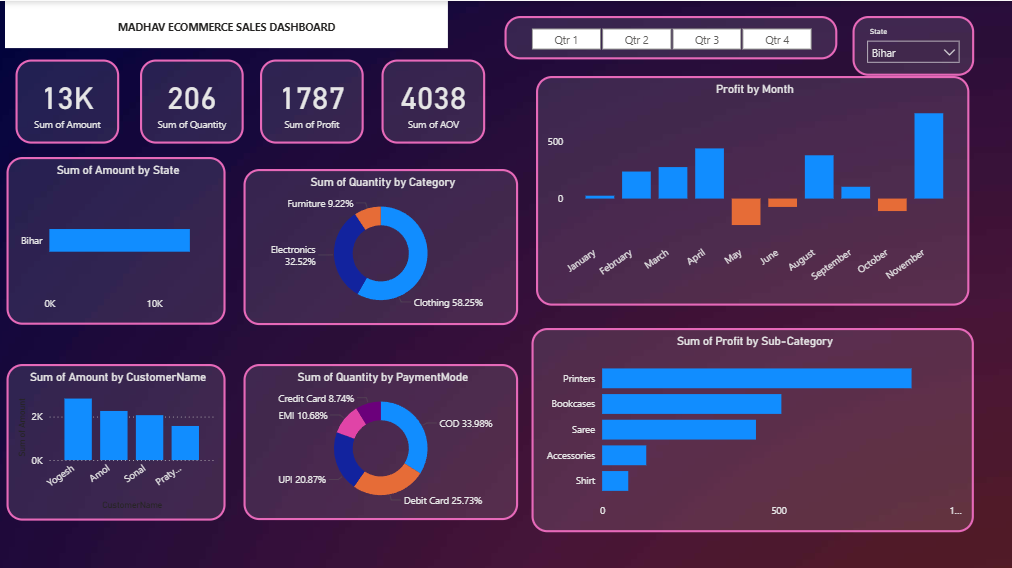

This screenshot's page, from the dashboard's own definition file:
{"tool":"powerbi","page":{"name":"Page 1","canvas":[1280,720],"ordinal":0},"visuals":[{"type":"textbox","box":[10.9,0,558,59.4],"z":0},{"type":"columnChart","title":"Profit by Month","fields":{"Category":["Orders.Order Date.Variation.Date Hierarchy.Month"],"Y":["Details.Profit"]},"box":[680.3,94.5,546.1,289.1],"z":1000},{"type":"barChart","fields":{"Category":["Details.Sub-Category"],"Y":["Details.Profit"]},"box":[674.7,412,557.5,257],"z":2000},{"type":"donutChart","fields":{"Category":["Details.Category"],"Y":["Details.Quantity"]},"box":[311.8,211.7,345.8,196.5],"z":3000},{"type":"donutChart","fields":{"Category":["Details.PaymentMode"],"Y":["Details.Quantity"]},"box":[311.8,457.3,345.8,196.5],"z":4000},{"type":"card","fields":{"Values":["Details.Amount"]},"box":[24.6,73.7,130.4,105.8],"z":5000},{"type":"card","fields":{"Values":["Details.Quantity"]},"box":[181.4,73.7,130.4,105.8],"z":6000},{"type":"card","fields":{"Values":["Details.Profit"]},"box":[332.6,73.7,130.4,105.8],"z":7000},{"type":"card","fields":{"Values":["Details.AOV"]},"box":[485.7,73.7,130.4,105.8],"z":8000},{"type":"barChart","fields":{"Category":["Orders.State"],"Y":["Details.Amount"]},"box":[13.2,196.5,275.9,211.7],"z":9001},{"type":"columnChart","fields":{"Category":["Orders.CustomerName"],"Y":["Details.Amount"]},"box":[13,457,276,197],"z":9002},{"type":"slicer","fields":{"Values":["Orders.Order Date.Variation.Date Hierarchy.Quarter"]},"box":[640.6,18.9,419.5,54.8],"z":9003},{"type":"slicer","fields":{"Values":["Orders.State"]},"box":[1079.1,18.9,153.1,75.6],"z":9004}]}

Visuals, with their boxes in screenshot pixels (x1, y1, x2, y2), scaled from the page's 1280x720 canvas onto the 1012x568 screenshot:
textbox: [9,0,450,47]
"Profit by Month" columnChart: [538,75,970,303]
barChart - Details.Sub-Category x Details.Profit: [533,325,974,528]
donutChart - Details.Category x Details.Quantity: [247,167,520,322]
donutChart - Details.PaymentMode x Details.Quantity: [247,361,520,516]
card - Details.Amount: [19,58,123,142]
card - Details.Quantity: [143,58,247,142]
card - Details.Profit: [263,58,366,142]
card - Details.AOV: [384,58,487,142]
barChart - Orders.State x Details.Amount: [10,155,229,322]
columnChart - Orders.CustomerName x Details.Amount: [10,361,228,516]
slicer - Orders.Order Date.Variation.Date Hierarchy.Quarter: [506,15,838,58]
slicer - Orders.State: [853,15,974,75]
